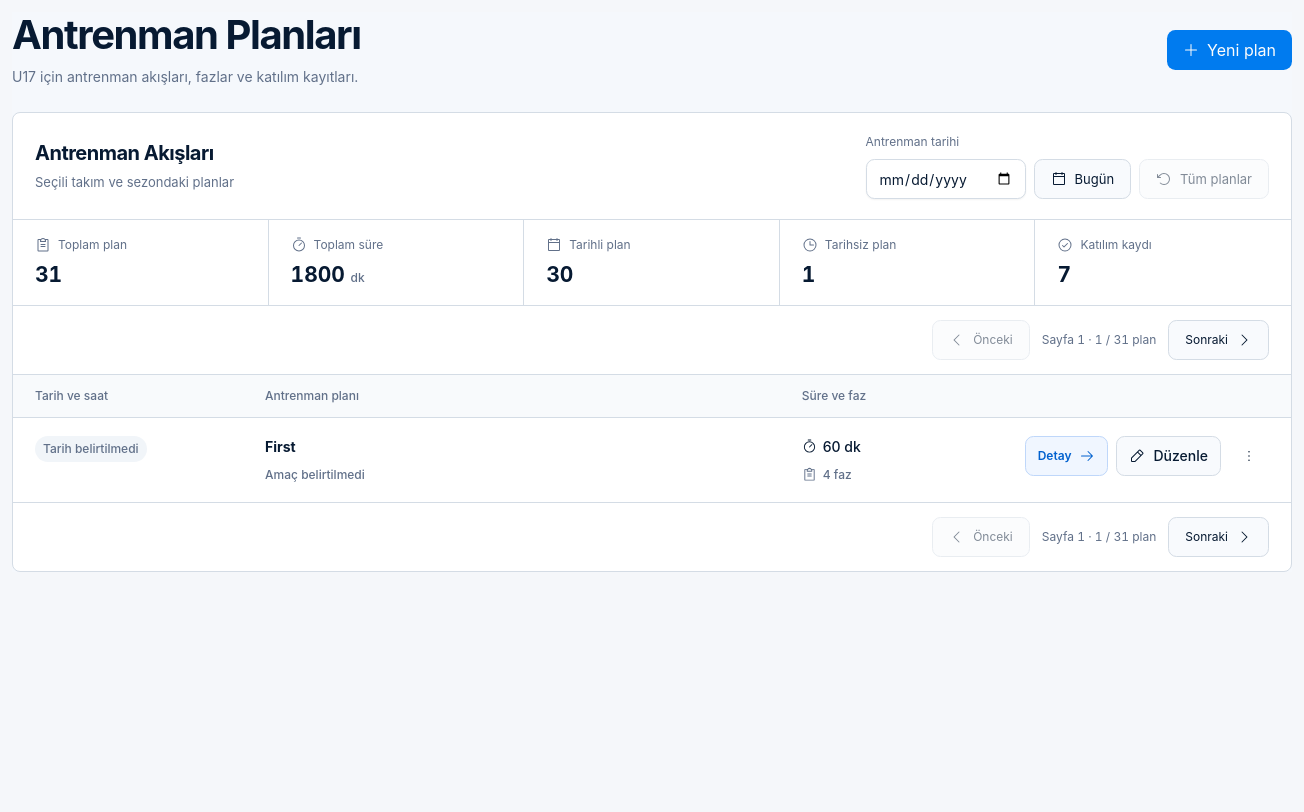
Test: independent training catalog › replaces pages, displays full totals and scalar phase counts without reading shared plans
The width and height of the screenshot is (1304, 812).
Expected: the text "First" is shown, [265,438,296,455]
Expected: the text "4 faz" is shown, [802,467,852,482]
Click the 1st button "Sonraki" at (1219, 340), box [1168,320,1269,360]
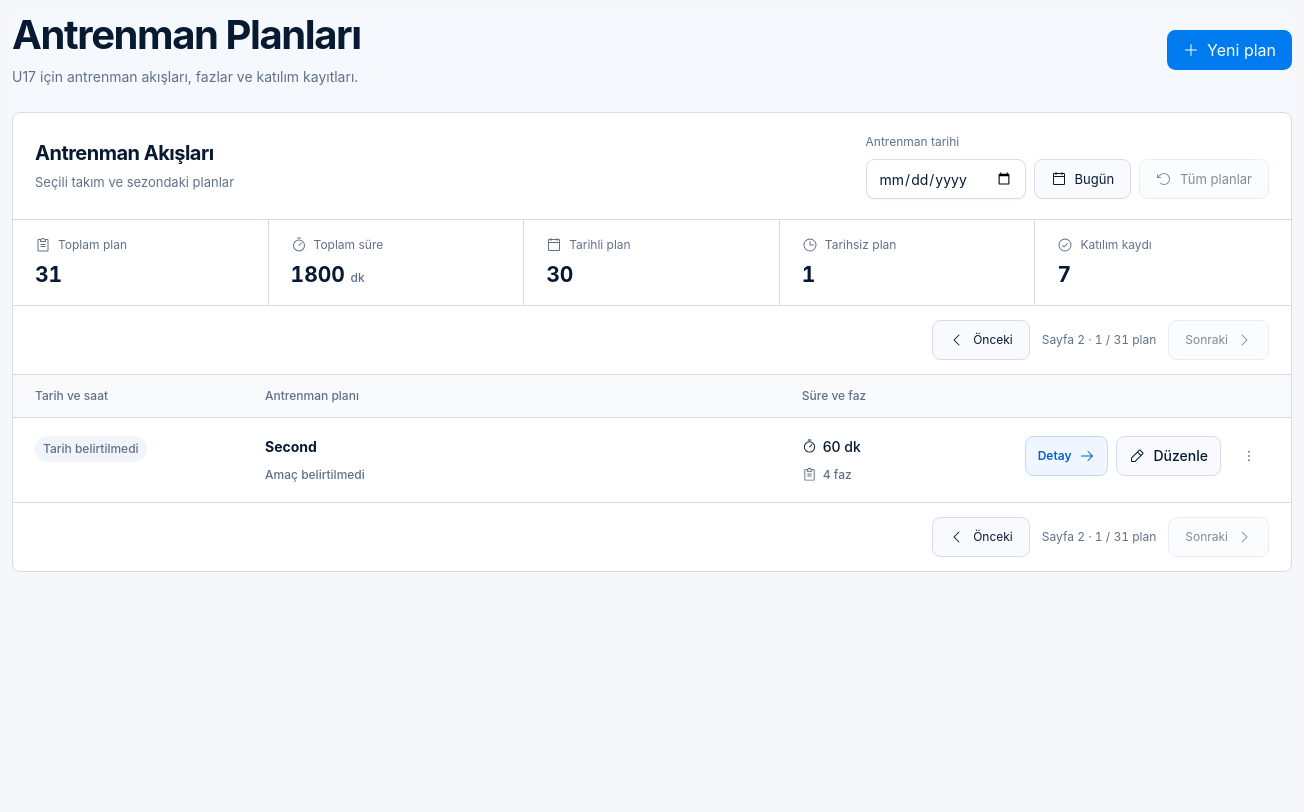
Now the text "Second" is shown, box [265,438,317,455]
Now the text "First" is gone
Now the navigation bar named "Antrenman sayfaları" shows "Sayfa 2 · 1 / 31 plan", box [1042,332,1156,347]
Click the 1st button "Önceki" at (981, 340), box [932,320,1030,360]
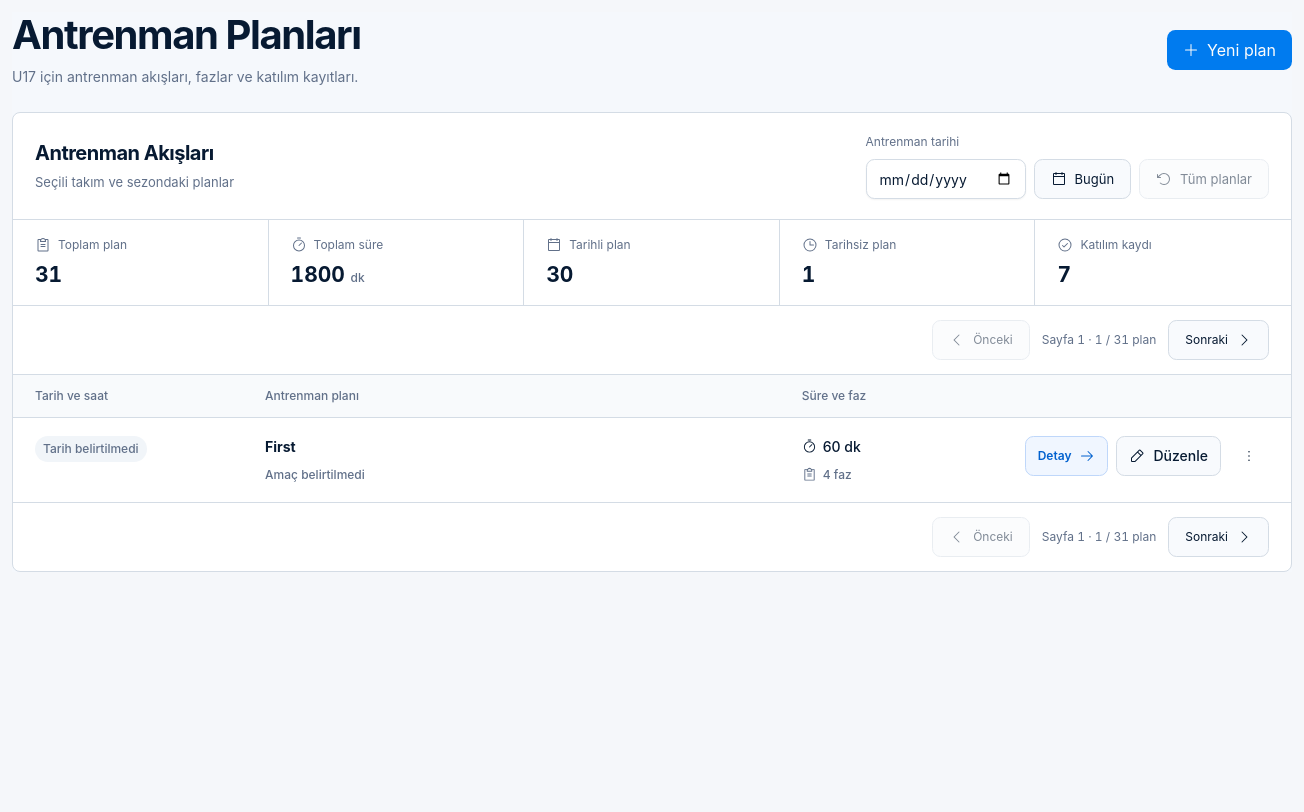
Now the text "First" is shown, box [265,438,296,455]
